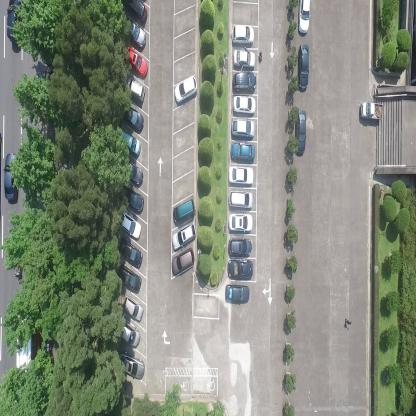car: (122, 44, 148, 78), (5, 0, 22, 48), (171, 220, 196, 251), (174, 74, 198, 106), (118, 237, 142, 268), (4, 153, 19, 202), (118, 351, 145, 378), (118, 264, 142, 294), (171, 245, 194, 276), (121, 185, 144, 214), (123, 0, 148, 26), (126, 17, 146, 49), (121, 104, 143, 133), (172, 198, 196, 224), (121, 211, 142, 240), (120, 318, 140, 348), (123, 294, 144, 322), (228, 189, 254, 211), (228, 259, 254, 281), (125, 76, 145, 104), (231, 140, 255, 163), (225, 283, 250, 305), (120, 130, 142, 155), (297, 43, 308, 92), (360, 101, 384, 123), (295, 107, 306, 155), (232, 70, 256, 92), (227, 238, 253, 258), (228, 166, 254, 185), (297, 0, 311, 35), (125, 160, 143, 187), (232, 25, 254, 47), (233, 94, 256, 115), (229, 213, 253, 233), (233, 50, 256, 70), (230, 119, 254, 138)
